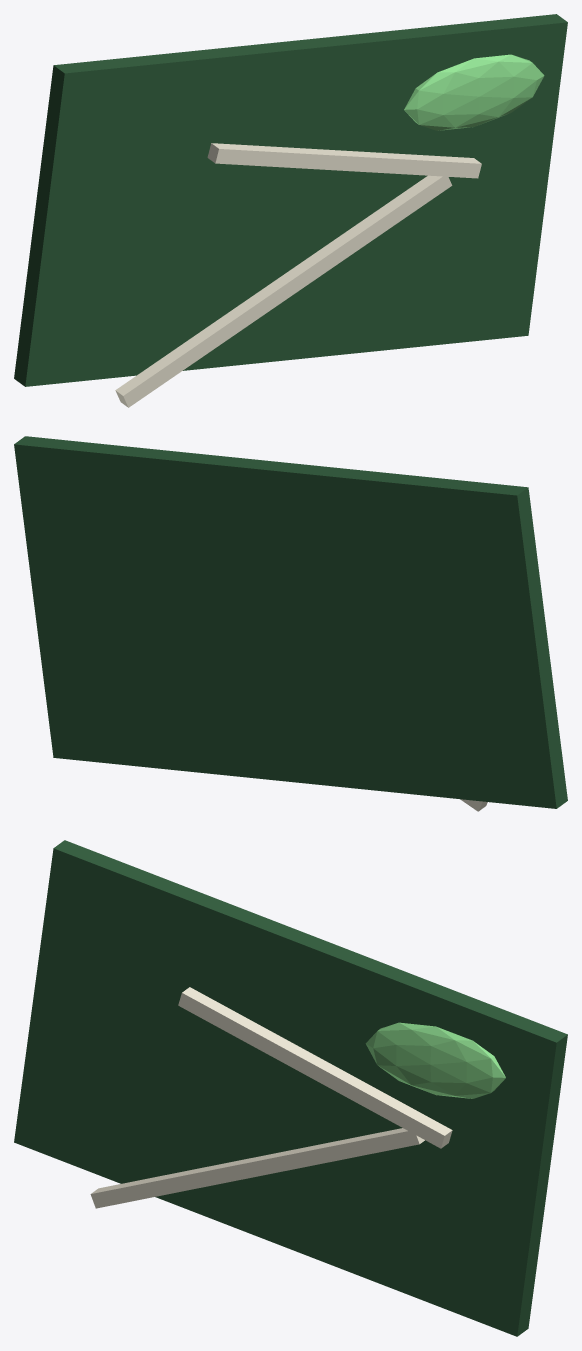
The model's file is 03_weathering_wear_overlay_3.glb.
3 renders of one model, top to bottom at view 1: azimuth 30°, elevation 25°; view 2: azimuth 150°, elevation 25°; view 3: azimuth 330°, elevation 25°, orthographic.
Visible parts, largest first — view 1: wear_plate, scratch_a, rust_or_moss_spot, scratch_b; view 2: wear_plate; view 3: wear_plate, rust_or_moss_spot, scratch_b, scratch_a.
Part boxes in pixels (box(x1,y1,x2,y2)): wear_plate: box(14, 14, 567, 386); scratch_a: box(115, 175, 452, 407); rust_or_moss_spot: box(404, 54, 544, 130); scratch_b: box(207, 143, 481, 178); wear_plate: box(14, 436, 567, 808); wear_plate: box(14, 840, 567, 1336); rust_or_moss_spot: box(365, 1022, 505, 1098); scratch_b: box(178, 987, 452, 1148); scratch_a: box(90, 1128, 424, 1208).
Bounding box in the file's own units: 1.39 × 0.9183 × 0.134.
